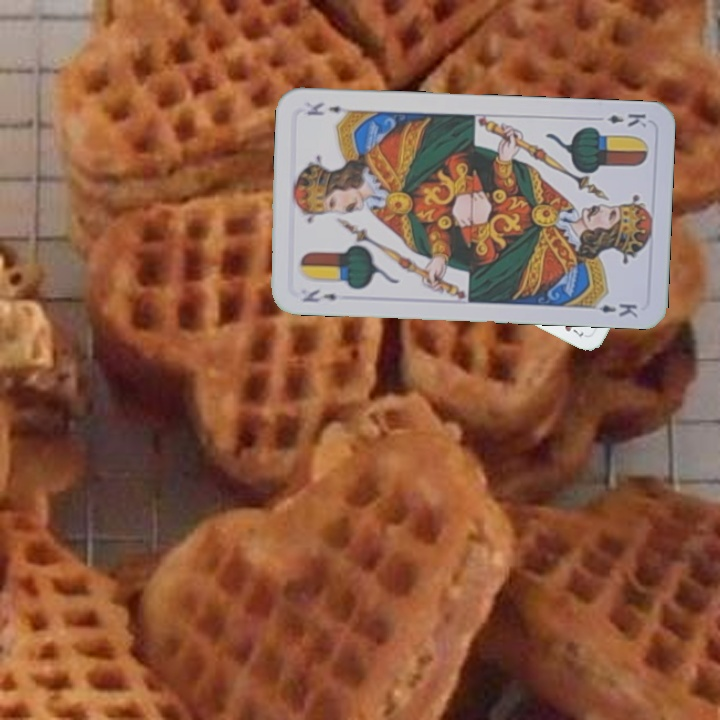EK: (603, 109, 649, 130), (298, 285, 340, 305)
